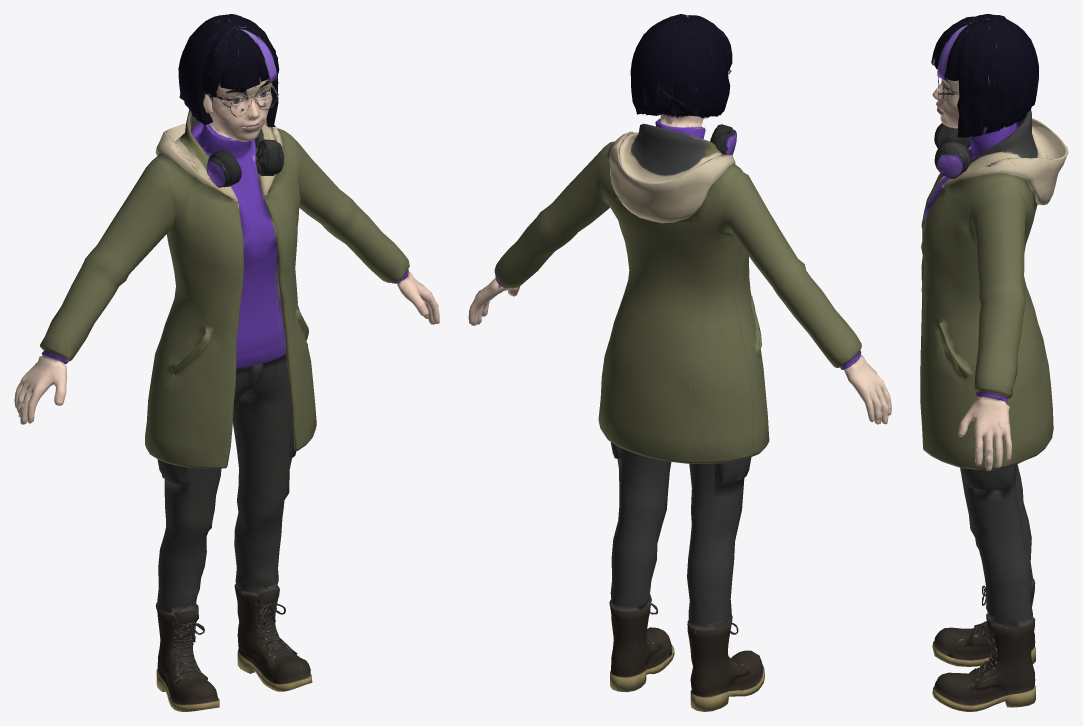
Rendered from lumi_meshy.glb.
The picture shows the model from 3 angles, left to right: view 1: azimuth 30°, elevation 25°; view 2: azimuth 150°, elevation 25°; view 3: azimuth 270°, elevation 25°; orthographic projection.
Bounding box in the file's own units: 1.08 × 1.65 × 0.3347.
1 material, 1 textured.
